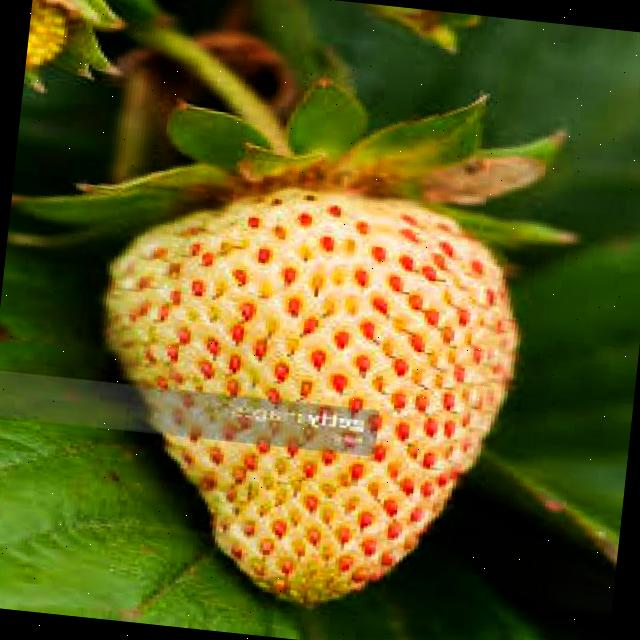strawberry: (75, 169, 535, 625)
